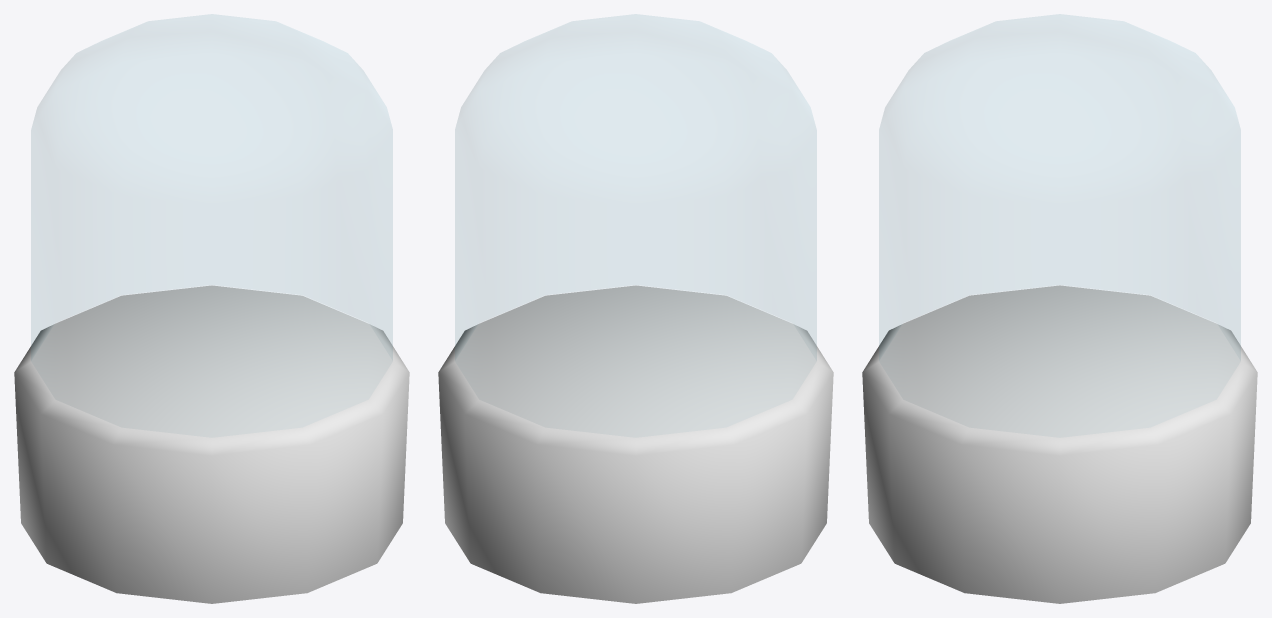
File: pod-small.FBX
3 renders of one model, left to right at view 1: azimuth 30°, elevation 25°; view 2: azimuth 150°, elevation 25°; view 3: azimuth 270°, elevation 25°, orthographic.
Visible parts, largest first — view 1: Pod Bottom, Glass Top; view 2: Pod Bottom, Glass Top; view 3: Pod Bottom, Glass Top.
Boxes of the visible parts, left/top/right/bottom form: Pod Bottom: left=14, top=285, right=409, bottom=603; Glass Top: left=31, top=14, right=392, bottom=360; Pod Bottom: left=438, top=285, right=833, bottom=603; Glass Top: left=455, top=14, right=816, bottom=360; Pod Bottom: left=862, top=285, right=1257, bottom=603; Glass Top: left=879, top=14, right=1240, bottom=360.
Bounding box in the file's own units: 1.31 × 1.76 × 1.31.
